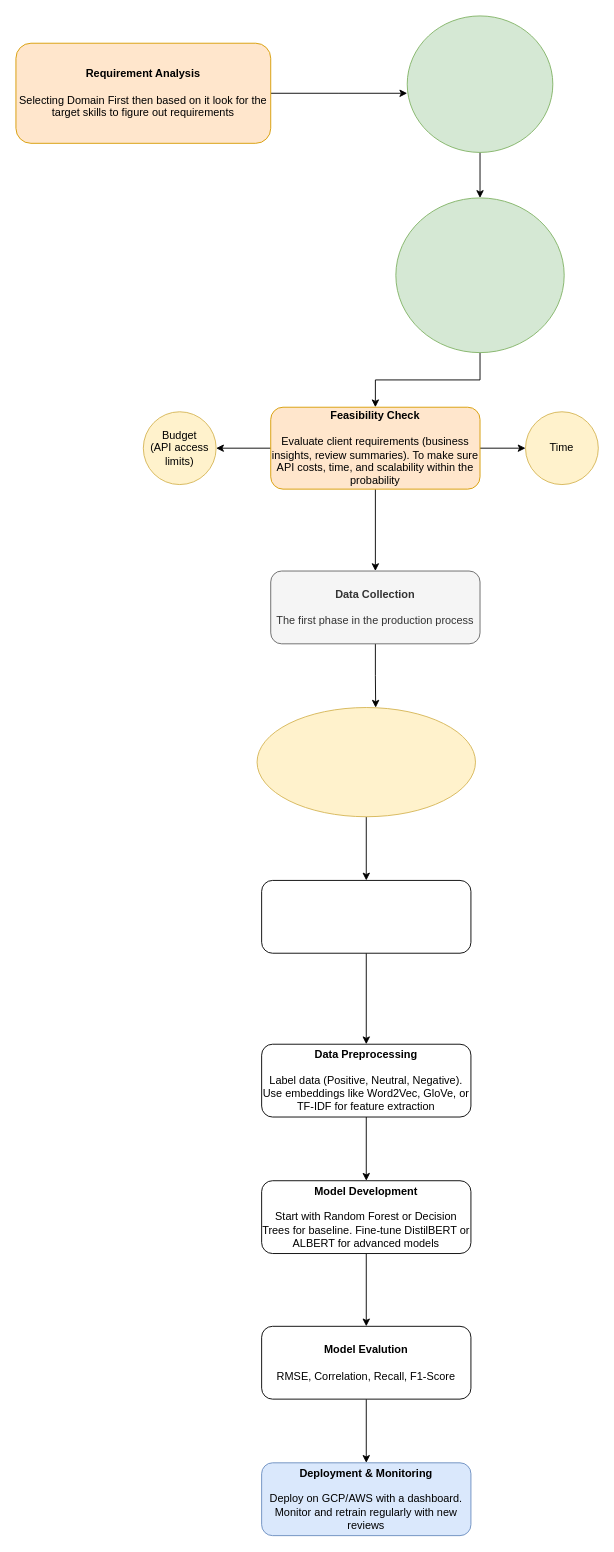
Some shapes in this 614 by 1552 pixel diagram are drawn without their labels. The shapes that lost their labels are listed below. From the top down, each one's centre as x and y in pixels, then its label:
(479,83): Domain Sentiment analysis for Google reviews
(479,275): Target Skills Python, NLP, Google Places API, Deployment
(365,762): Existing Dataset Google Places API to extract reviews and metadata
(366,916): Data Cleaning Preprocess reviews: remove noise, normalize, tokenize
